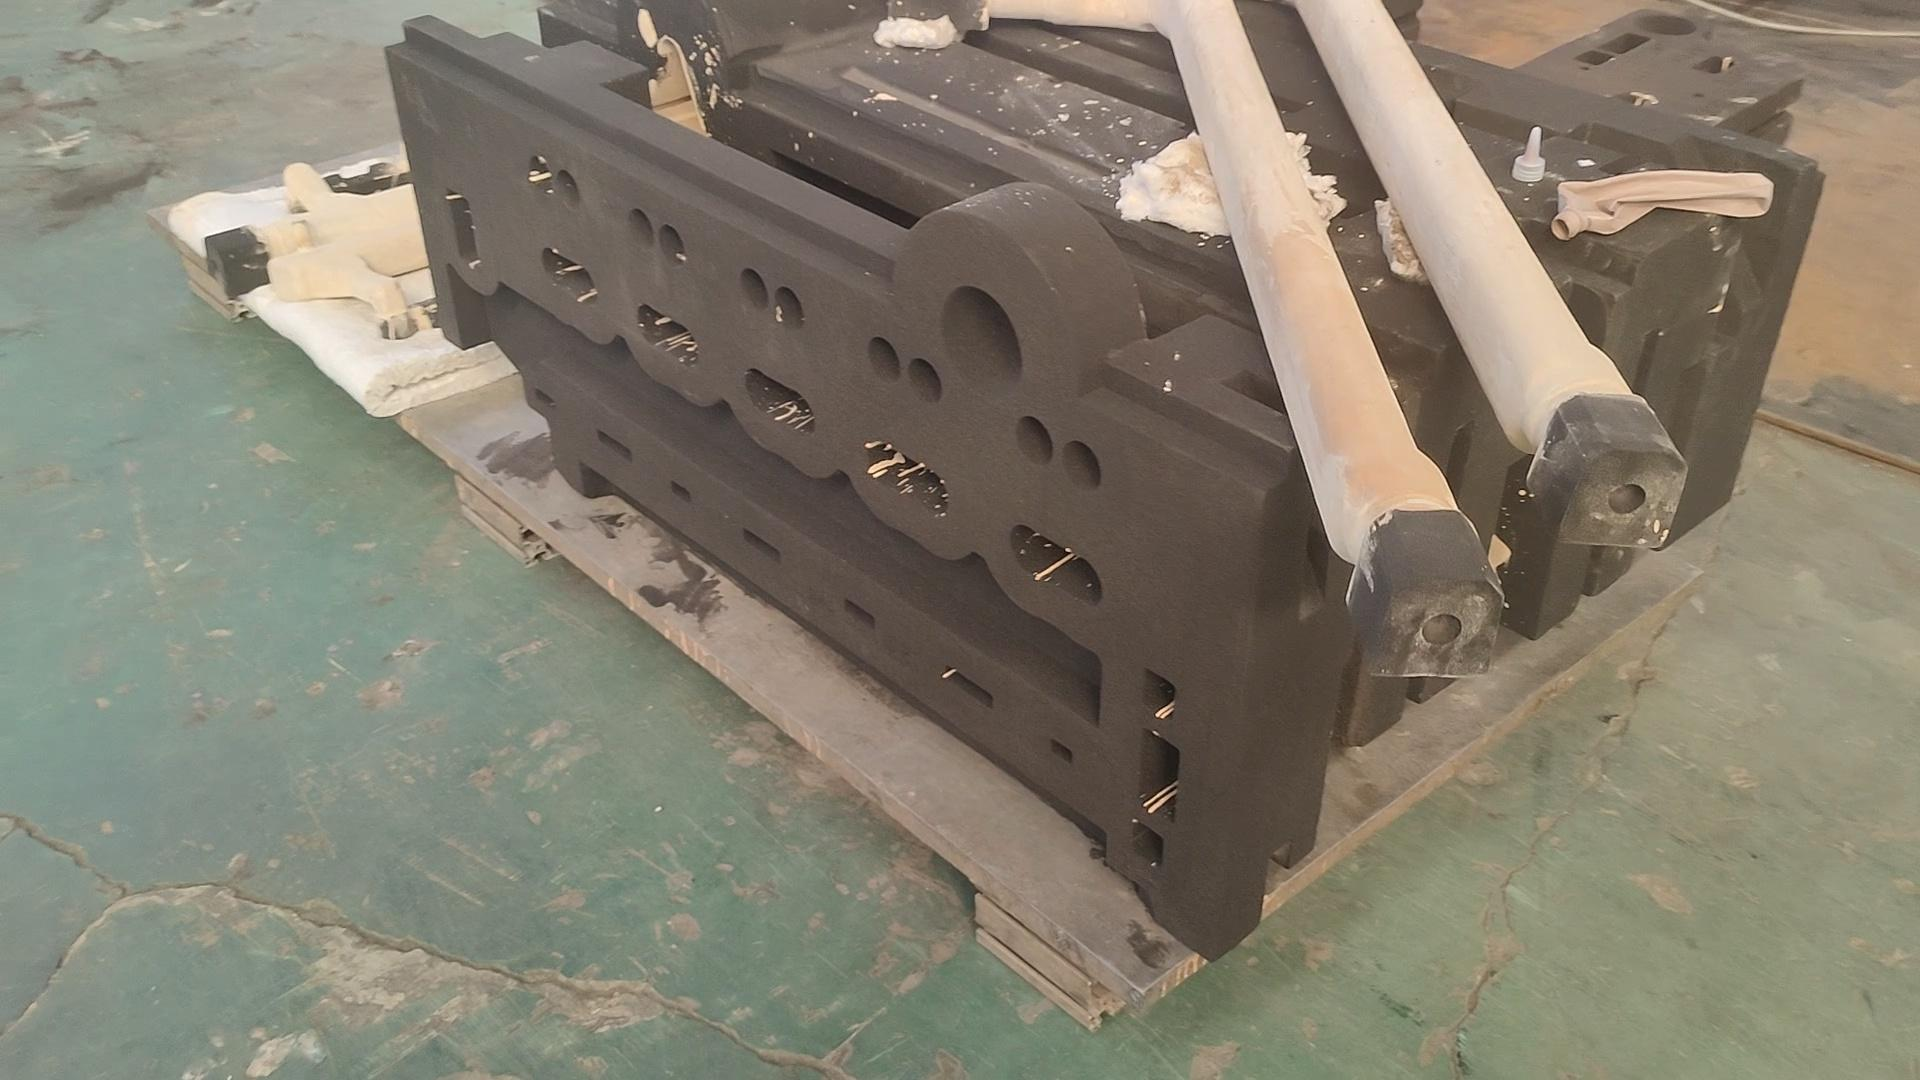pouring hole: (942, 284, 1023, 400), (1634, 13, 1697, 34)
